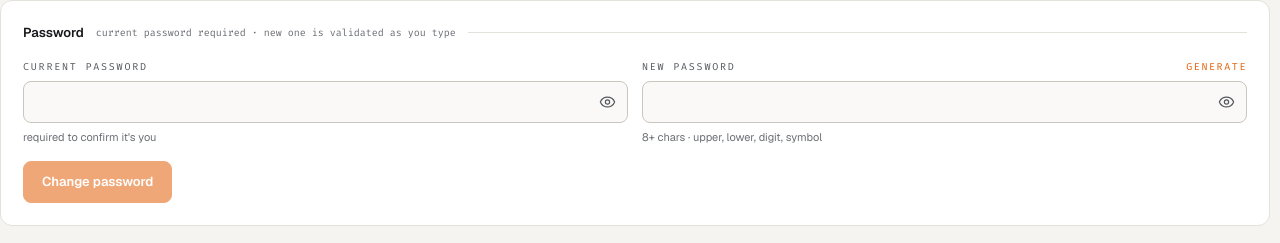
Scenario: PasswordSection › fills the new field with Generate, which passes validation and is revealed
Click the button "Generate": (1217, 66) left=1186, top=58, right=1247, bottom=74
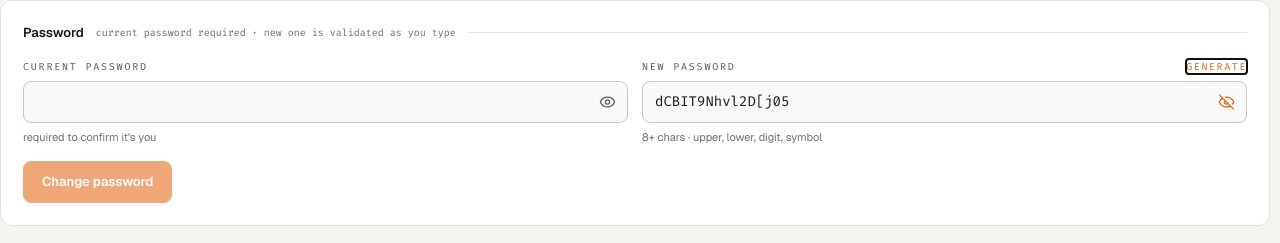
Check: the field labelled "New password" shows its text, box left=642, top=80, right=1247, bottom=122
